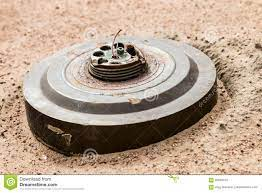car: (13, 17, 242, 166)
